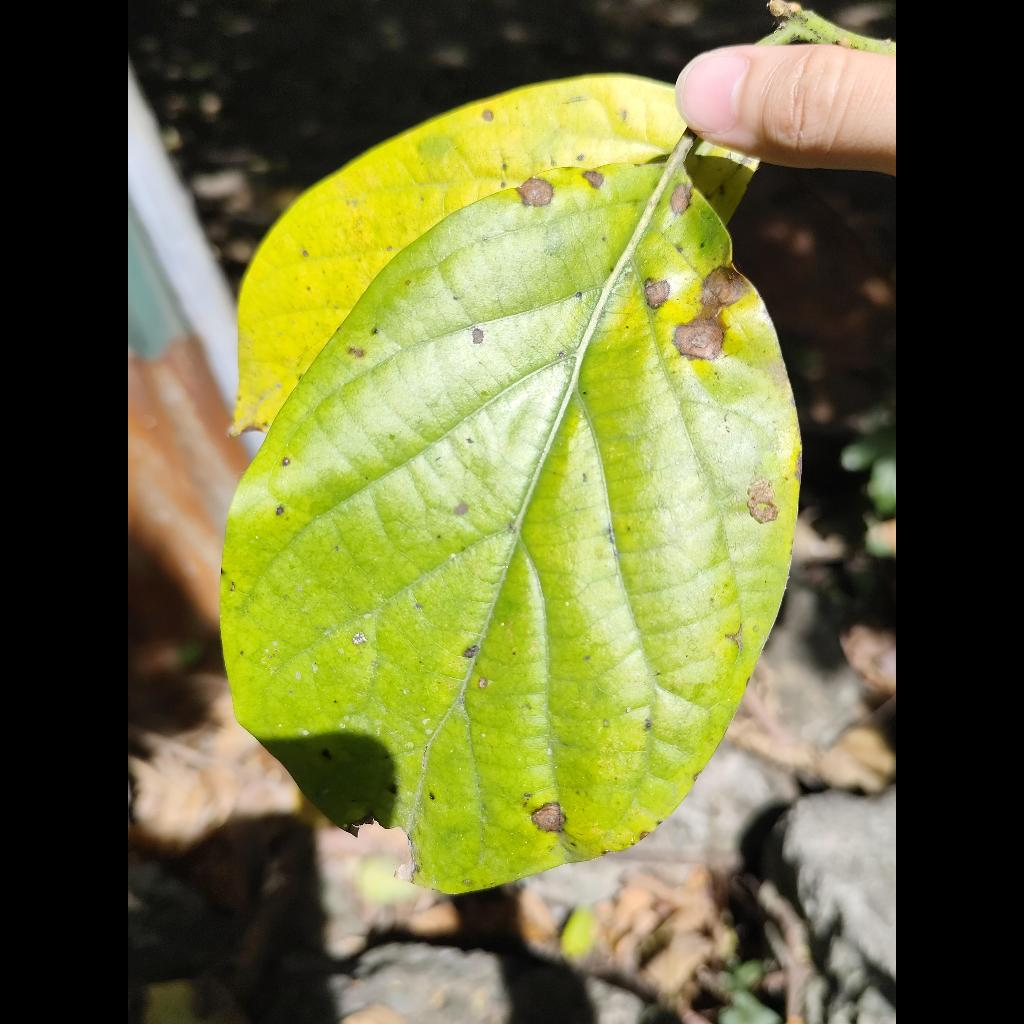deficiencia_nutricional: (222, 145, 799, 893)
